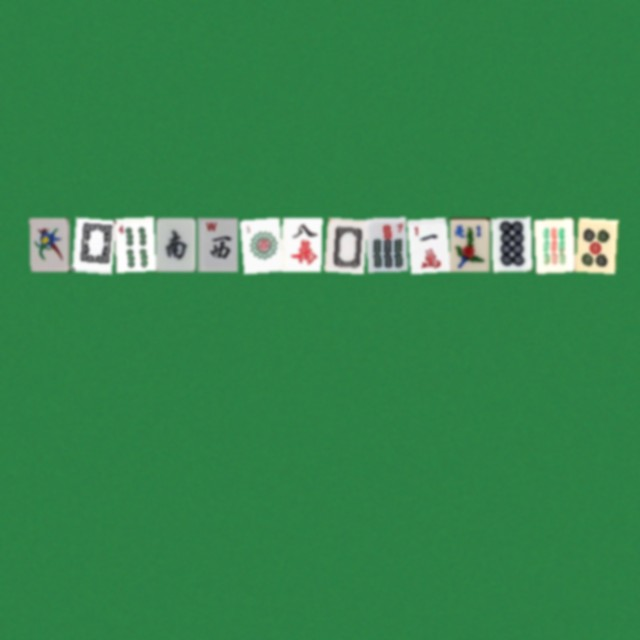tile: (29, 217, 69, 271), (71, 217, 111, 271), (113, 217, 153, 271), (155, 217, 195, 271), (197, 217, 237, 271), (239, 217, 279, 271), (281, 217, 321, 271), (323, 217, 363, 271), (365, 217, 405, 271), (407, 217, 447, 271), (449, 217, 489, 271), (491, 217, 531, 271), (533, 217, 573, 271), (575, 217, 615, 271)
